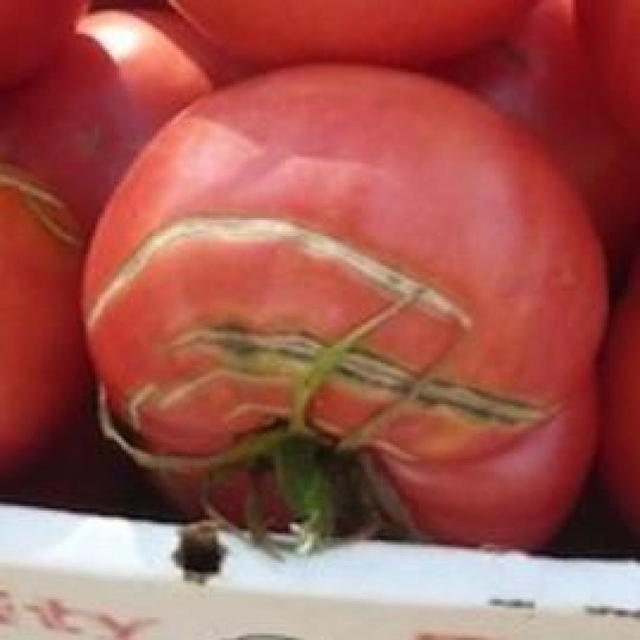Cracking Fruit: (188, 79, 266, 248)
